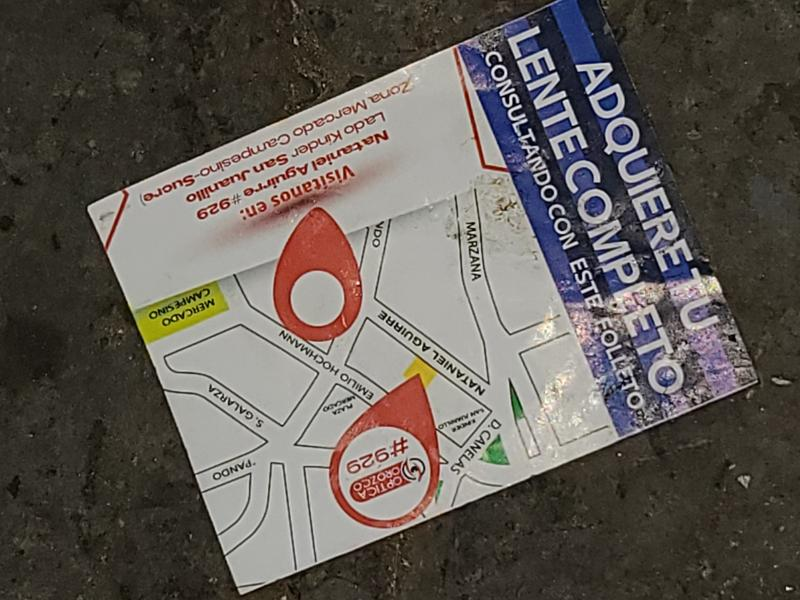papel: (86, 0, 760, 596)
